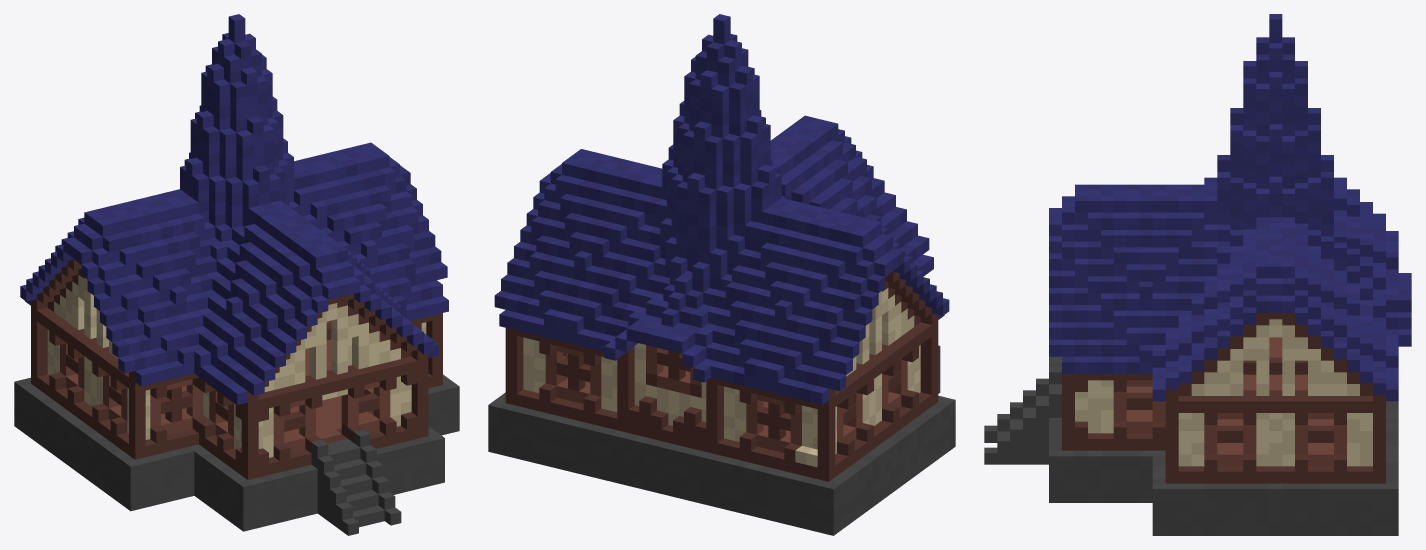
Rendered from town_hall_spire.obj.
3 renders of one model, left to right at view 1: azimuth 30°, elevation 25°; view 2: azimuth 150°, elevation 25°; view 3: azimuth 270°, elevation 25°, orthographic. The views are drawn at different scales.
Size of the model in its own units: 3.1 by 3.7 by 3.3.
1 material, 1 textured.
